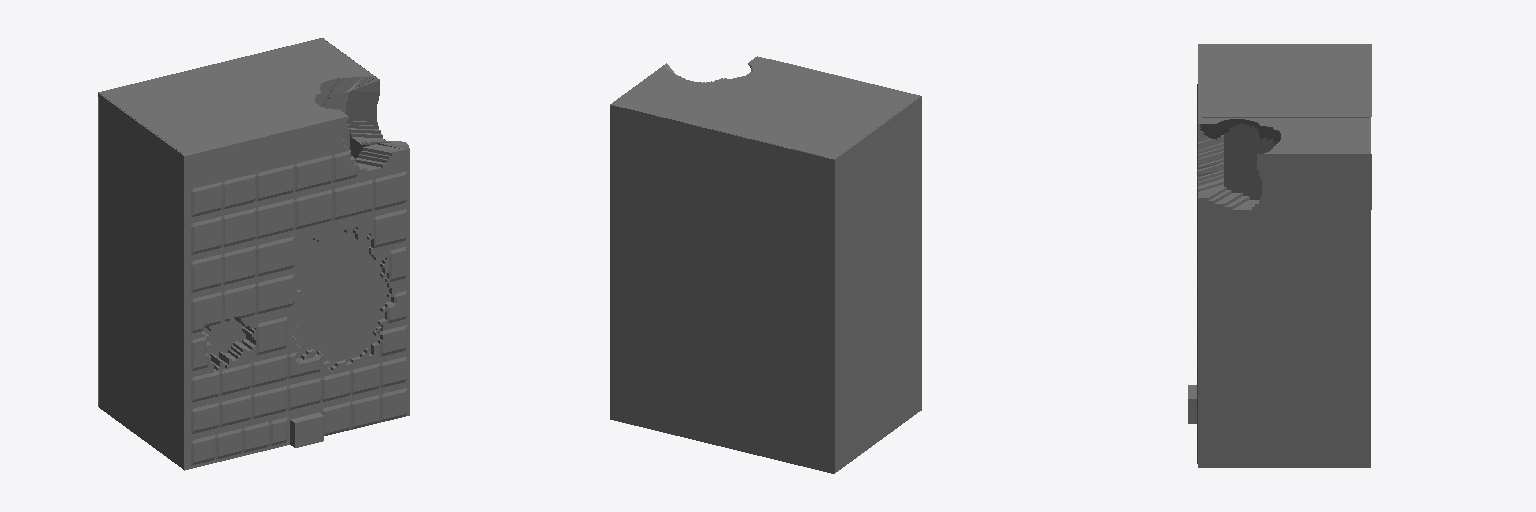
File: burningcommieblocv2.obj
3 renders of one model, left to right at view 1: azimuth 30°, elevation 25°; view 2: azimuth 150°, elevation 25°; view 3: azimuth 270°, elevation 25°, orthographic.
Parts seen in each view (by area): view 1: pPlane13; view 2: pPlane13; view 3: pPlane13.
Part boxes in pixels (x1,y1,x2,y2): pPlane13: (98,38,409,470); pPlane13: (610,56,921,473); pPlane13: (1188,44,1371,467).
Bounding box in the file's own units: 15 × 20.05 × 10.59.